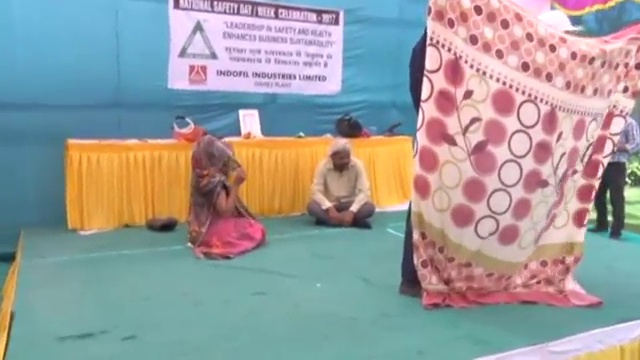helmet_off: (193, 136, 229, 169), (329, 138, 352, 172)
person: (182, 134, 267, 256), (587, 115, 640, 240), (305, 135, 377, 227)
